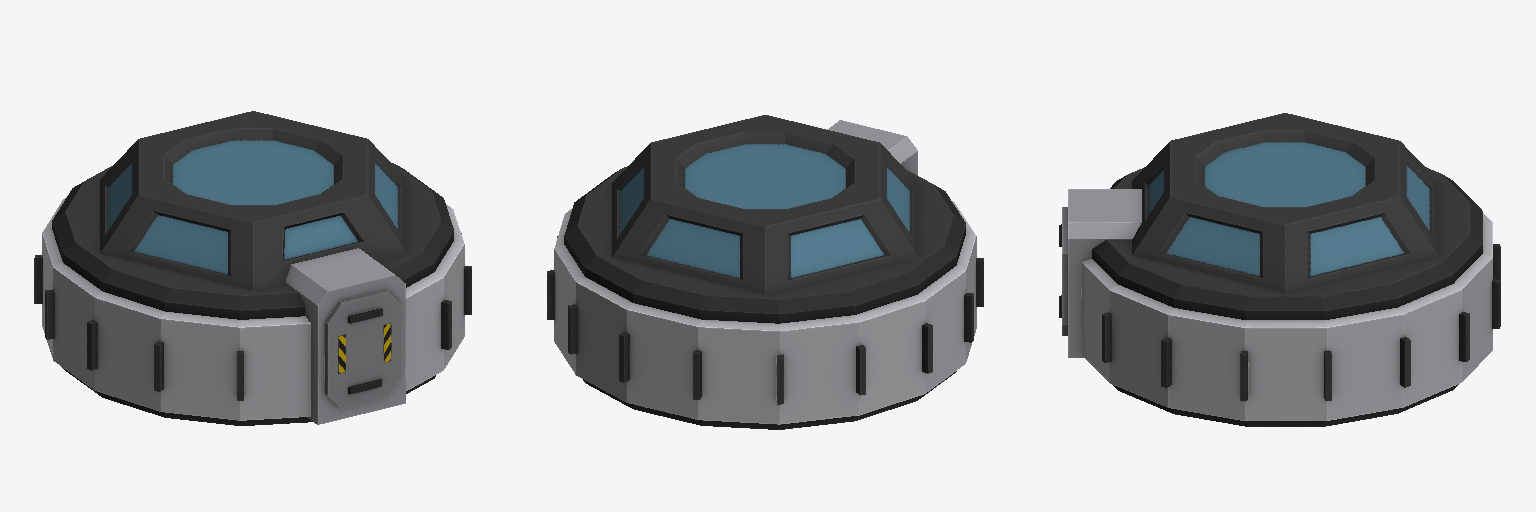
The picture shows the model from 3 angles: view 1: azimuth 30°, elevation 25°; view 2: azimuth 150°, elevation 25°; view 3: azimuth 270°, elevation 25°; orthographic projection.
Parts seen in each view (by area): view 1: PPD12CupolaModule_mesh; view 2: PPD12CupolaModule_mesh; view 3: PPD12CupolaModule_mesh.
Part boxes in pixels (x1,y1,x2,y2): PPD12CupolaModule_mesh: (34,111,471,425); PPD12CupolaModule_mesh: (547,115,983,429); PPD12CupolaModule_mesh: (1059,113,1500,426).
Size of the model in its own units: 5.28 by 2.36 by 5.41.
1 materials, 1 textured.